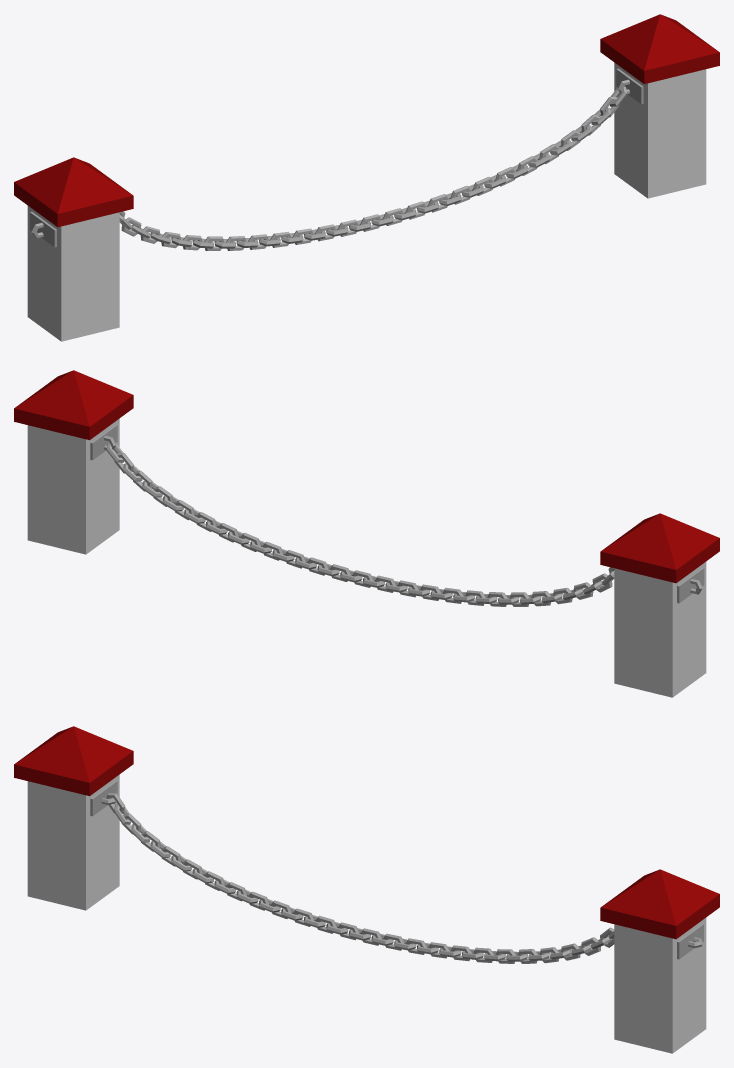
The model's file is Fence.fbx.
The picture shows the model from 3 angles, top to bottom: view 1: azimuth 30°, elevation 25°; view 2: azimuth 150°, elevation 25°; view 3: azimuth 330°, elevation 25°; orthographic projection.
Visible parts, largest first — view 1: Pole1, Pole2, Chain; view 2: Pole1, Pole2, Chain; view 3: Pole2, Pole1, Chain.
Boxes of the visible parts, x1=… form: Pole1: x1=14, y1=157, x2=133, y2=341; Pole2: x1=600, y1=14, x2=719, y2=198; Chain: x1=119, y1=86, x2=627, y2=250; Pole1: x1=600, y1=513, x2=719, y2=697; Pole2: x1=14, y1=370, x2=133, y2=554; Chain: x1=106, y1=442, x2=614, y2=606; Pole2: x1=600, y1=869, x2=719, y2=1053; Pole1: x1=14, y1=726, x2=133, y2=910; Chain: x1=106, y1=793, x2=614, y2=963.
Size of the model in its own units: 46.13 by 10.83 by 5.21.
